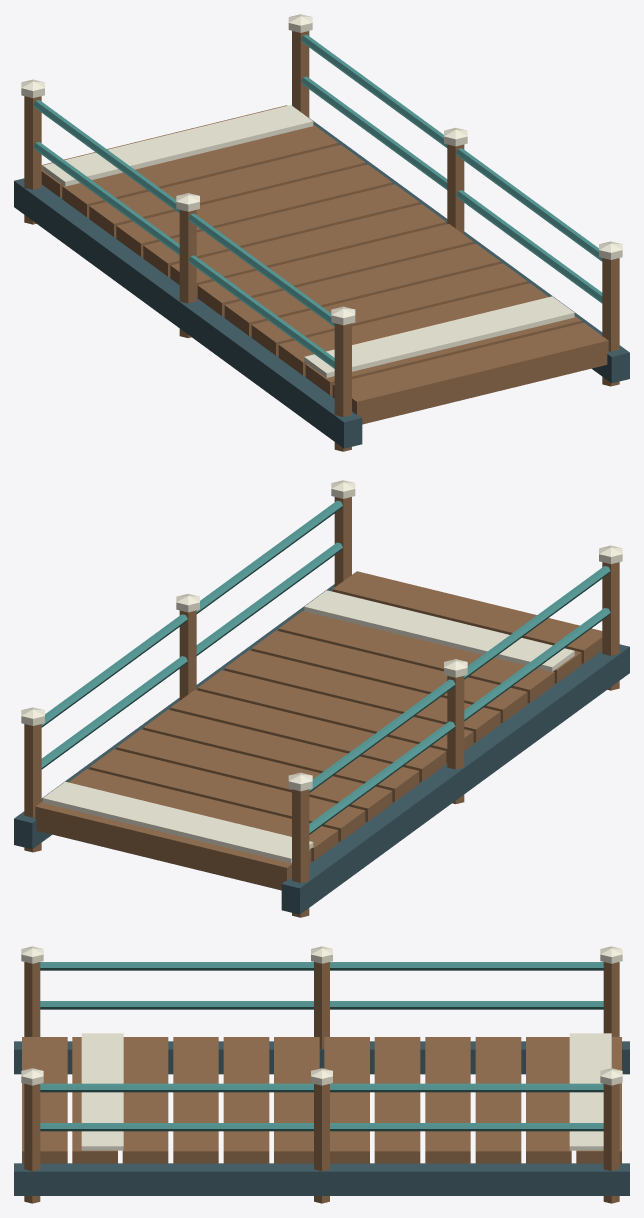
The model's file is bridge.glb.
The picture shows the model from 3 angles, top to bottom: view 1: azimuth 30°, elevation 25°; view 2: azimuth 150°, elevation 25°; view 3: azimuth 270°, elevation 25°; orthographic projection. The views are drawn at different scales.
Parts seen in each view (by area): view 1: plank-deck; view 2: plank-deck; view 3: plank-deck.
Part boxes in pixels (x1=…): plank-deck: x1=14, y1=14, x2=629, y2=451; plank-deck: x1=14, y1=480, x2=629, y2=917; plank-deck: x1=14, y1=946, x2=629, y2=1203.
Bounding box in the file's own units: 2.55 × 1.16 × 5.
